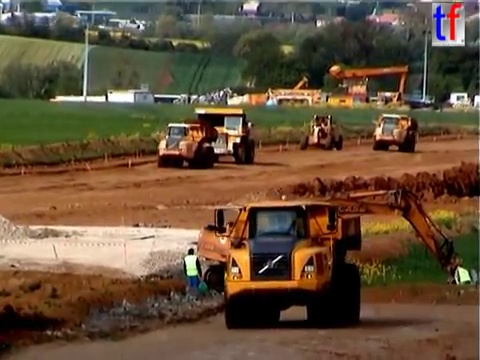crane: (327, 61, 410, 109)
excavator: (195, 185, 480, 306)
motor grader: (297, 112, 343, 152)
truck: (212, 198, 365, 329), (190, 105, 257, 166), (155, 120, 219, 169), (369, 112, 417, 153)
worker: (181, 246, 204, 299), (449, 262, 474, 302)
